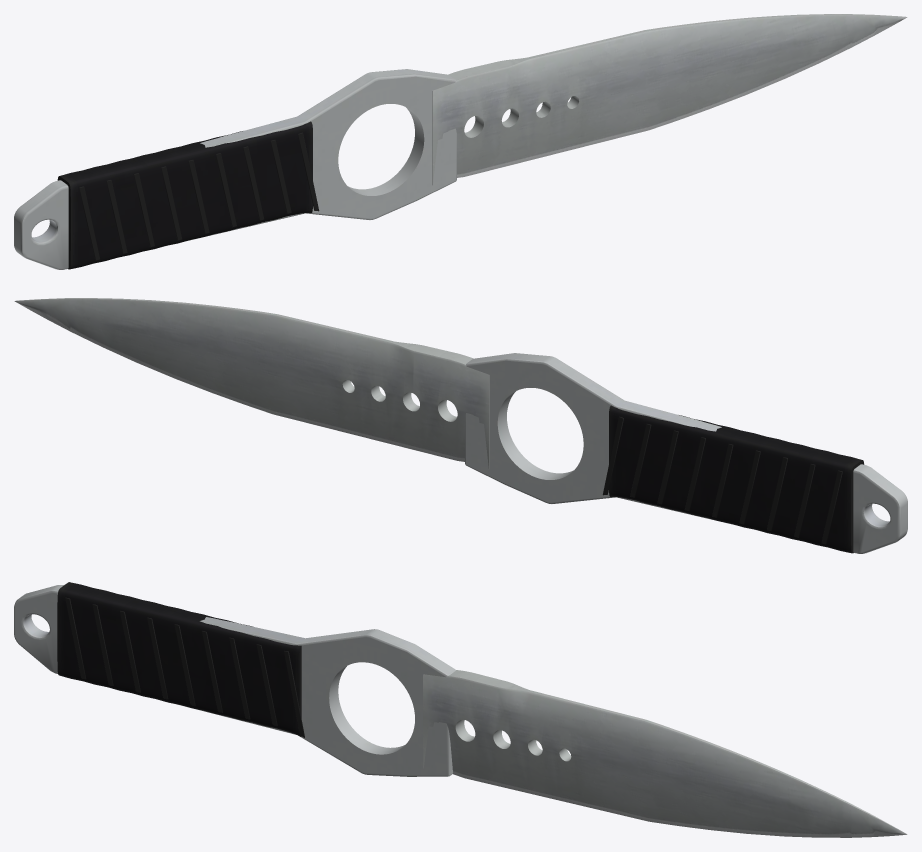
File: skeleton_lod1.glb
3 renders of one model, top to bottom at view 1: azimuth 30°, elevation 25°; view 2: azimuth 150°, elevation 25°; view 3: azimuth 330°, elevation 25°, orthographic.
Parts seen in each view (by area): view 1: body; view 2: body; view 3: body.
Part boxes in pixels (x1,y1,x2,y2): body: (14, 14, 907, 269); body: (14, 298, 907, 553); body: (14, 582, 907, 837).
Bounding box in the file's own units: 0.228 × 0.0346 × 0.00657.
Materials: 4 (4 with a texture image).
